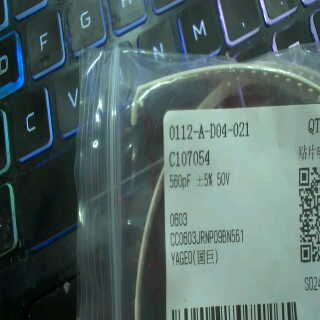560pF: (168, 171, 195, 187)
